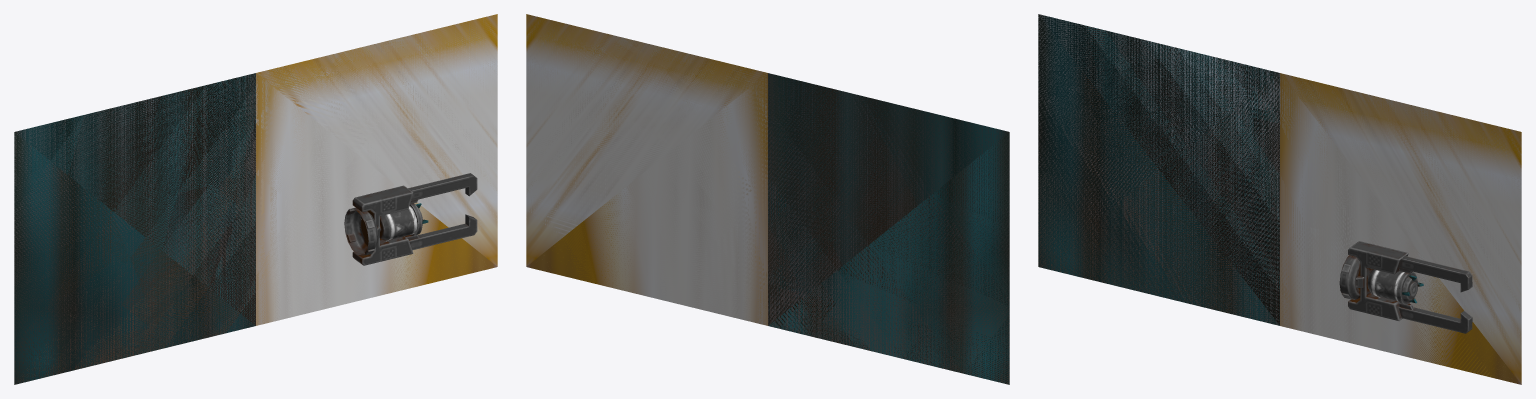
Rendered from heavy-rifle.glb.
3 views of the same model, side by side, from view 1: azimuth 30°, elevation 25°; view 2: azimuth 150°, elevation 25°; view 3: azimuth 330°, elevation 25° (orthographic).
Visible parts, largest first — view 1: object 1, AnimationRing_3; view 2: object 1; view 3: object 1, AnimationRing_3.
Boxes of the visible parts, x1,y1,x2,y2 form: object 1: (14,14,497,384); AnimationRing_3: (344,173,477,265); object 1: (526,14,1009,384); object 1: (1038,14,1521,384); AnimationRing_3: (1339,241,1472,333).
Size of the model in its own units: 2 by 1 by 0.1898.
Materials: 2 (2 with a texture image).
